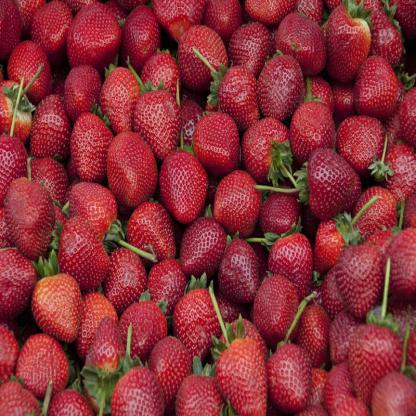strawberry: (294, 144, 378, 218)
